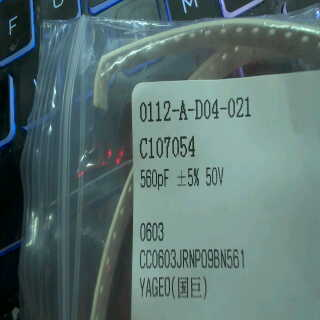560pF: (139, 162, 175, 191)
